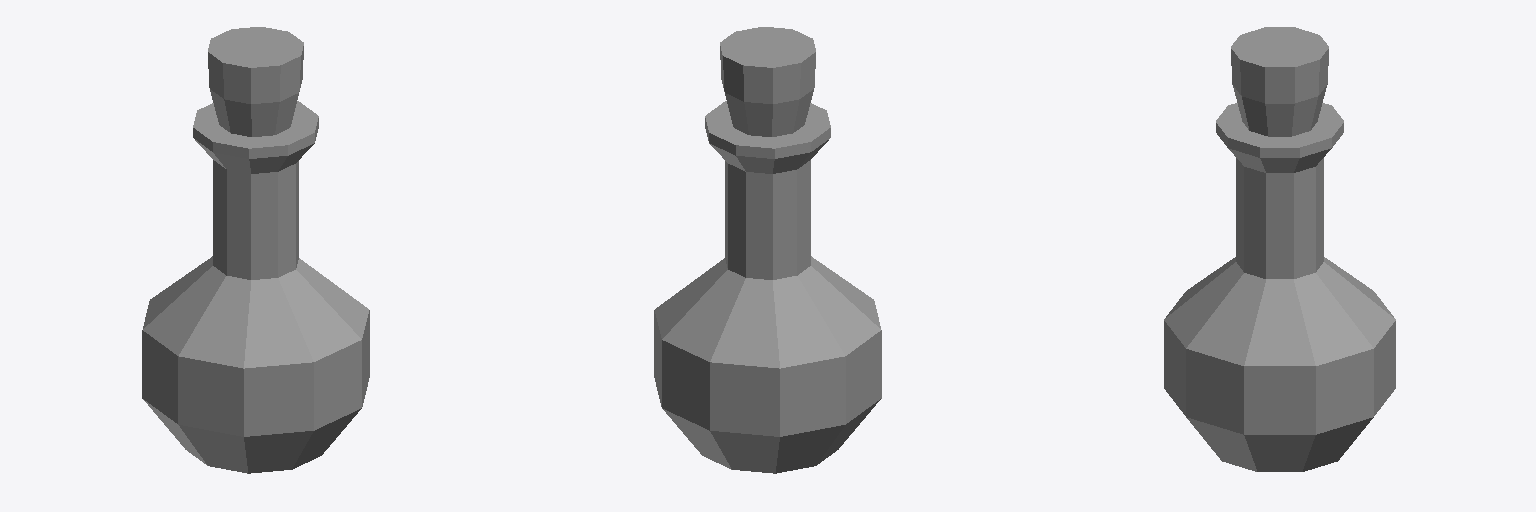
Rendered from potion.obj.
3 views of the same model, side by side, from view 1: azimuth 30°, elevation 25°; view 2: azimuth 150°, elevation 25°; view 3: azimuth 270°, elevation 25° (orthographic).
Parts seen in each view (by area): view 1: Sphere002; view 2: Sphere002; view 3: Sphere002.
Boxes of the visible parts, x1,y1,x2,y2 form: Sphere002: [142, 27, 369, 473]; Sphere002: [654, 27, 881, 473]; Sphere002: [1164, 27, 1395, 471].
Bounding box in the file's own units: 0.2932 × 0.6112 × 0.3083.